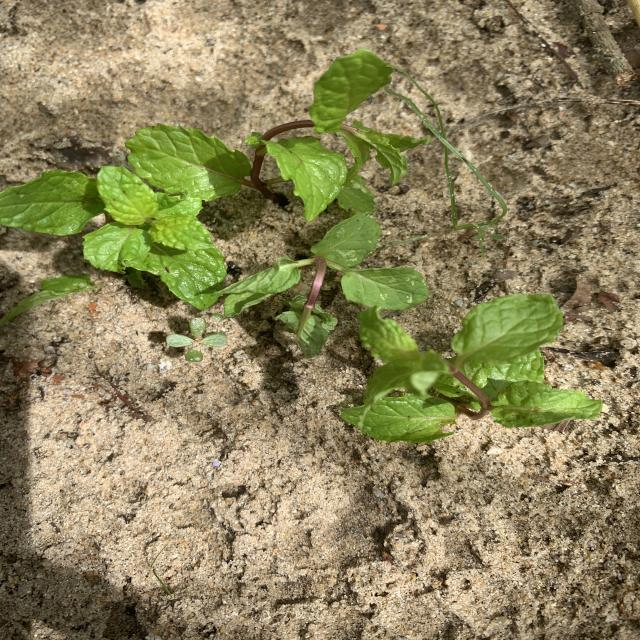crop: (126, 50, 425, 220), (341, 294, 602, 443), (0, 166, 225, 309), (215, 213, 428, 357)
weed: (386, 68, 507, 255), (166, 317, 227, 362)
